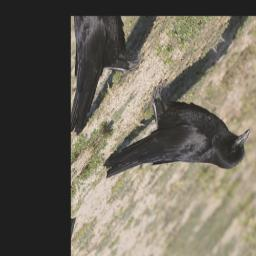Crow: (94, 50, 256, 254)
